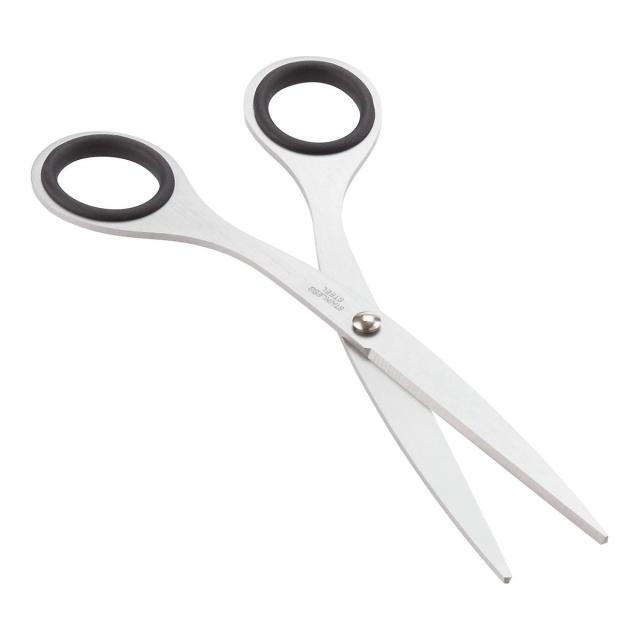Gunting: (21, 47, 616, 585)
